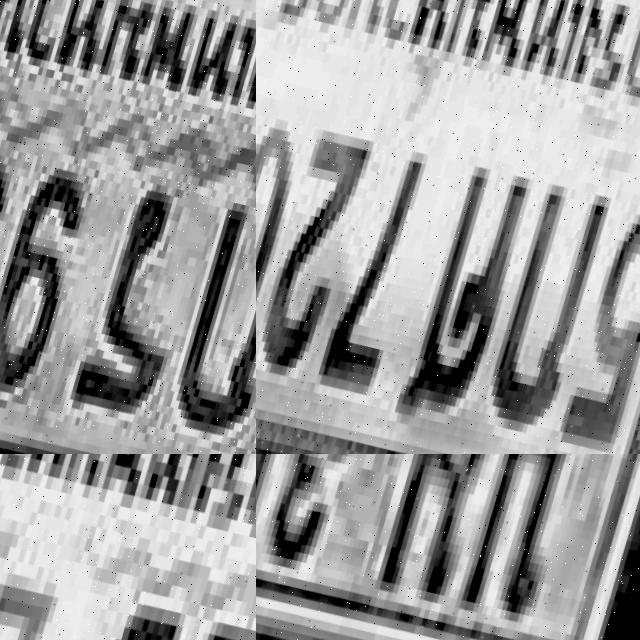license-plate: (256, 0, 640, 454), (0, 0, 256, 454), (256, 454, 640, 640), (0, 454, 256, 640)
